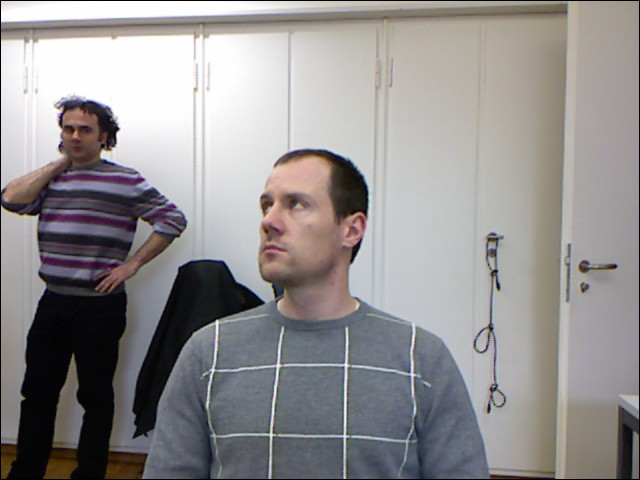deflection: (170, 156, 471, 457)
